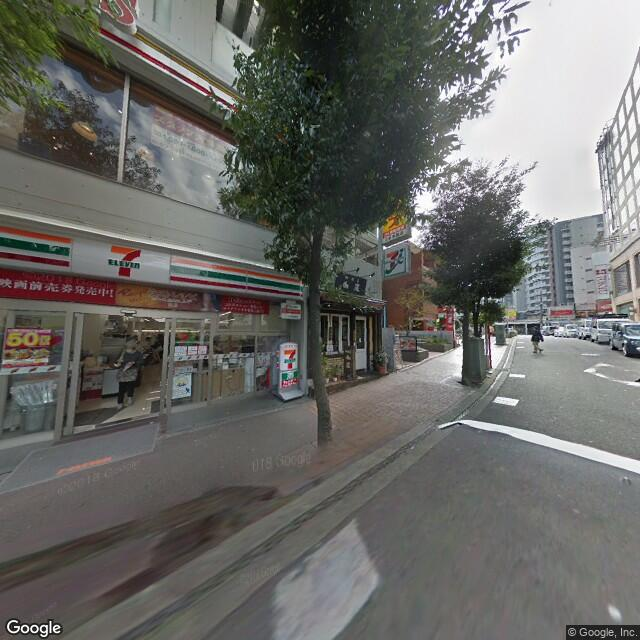7-eleven: (1, 222, 303, 299), (382, 241, 405, 277), (278, 341, 297, 374)
